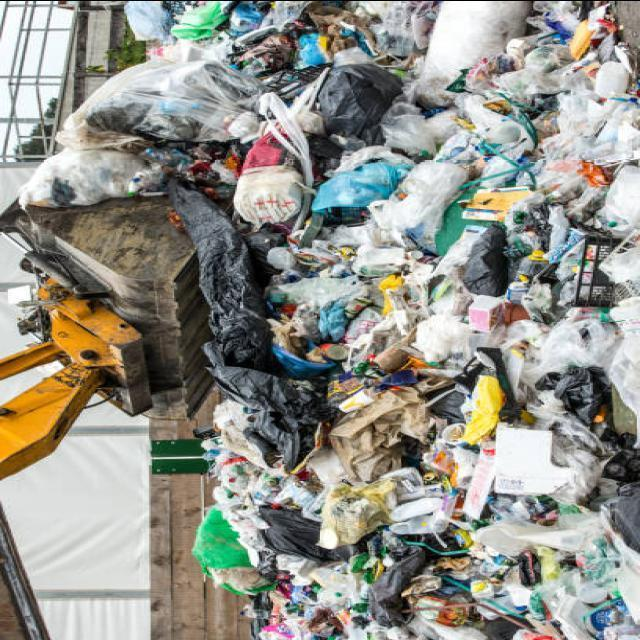Trashbag: (168, 193, 265, 372), (215, 358, 328, 476), (322, 59, 396, 146), (255, 500, 341, 564), (374, 548, 436, 635), (466, 208, 514, 309)
